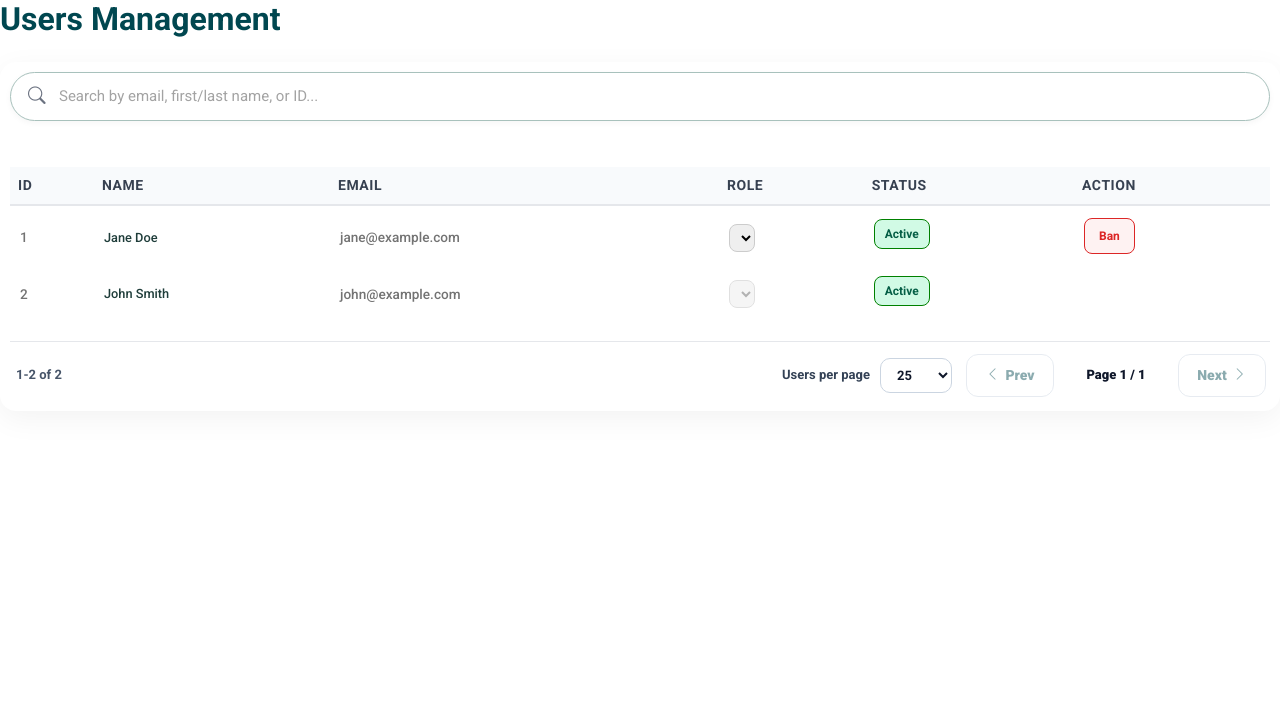
Test: Ban User (Admin) — AdminUsers.vue DOM › opens ban modal when Ban is clicked and confirm updates row to banned state
Click the button with class "btn-ban" at point(1109, 236), box top-left (1084, 218), bottom-right (1135, 254)
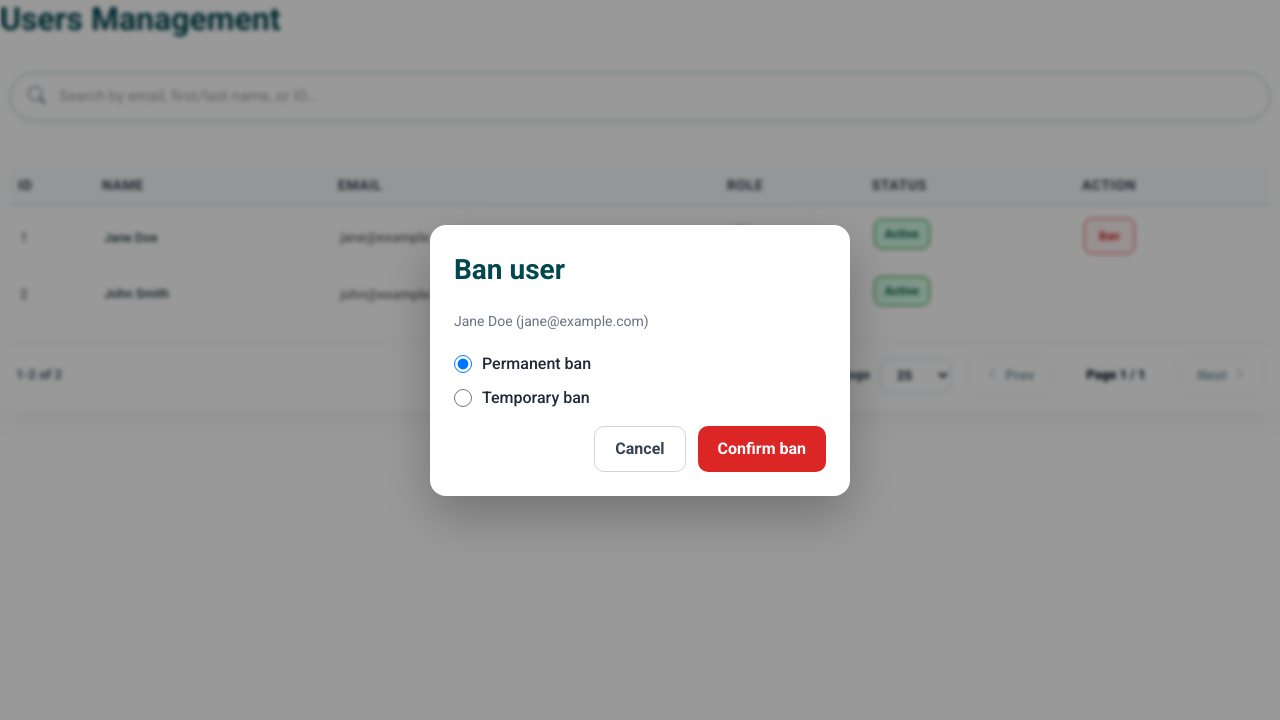
Expected: the element with class "modal-overlay" is shown
Expected: the text "Ban user" is shown, top-left (454, 252), bottom-right (565, 286)
Click the button with class "btn-modal-confirm" at point(762, 448), box top-left (698, 426), bottom-right (826, 472)
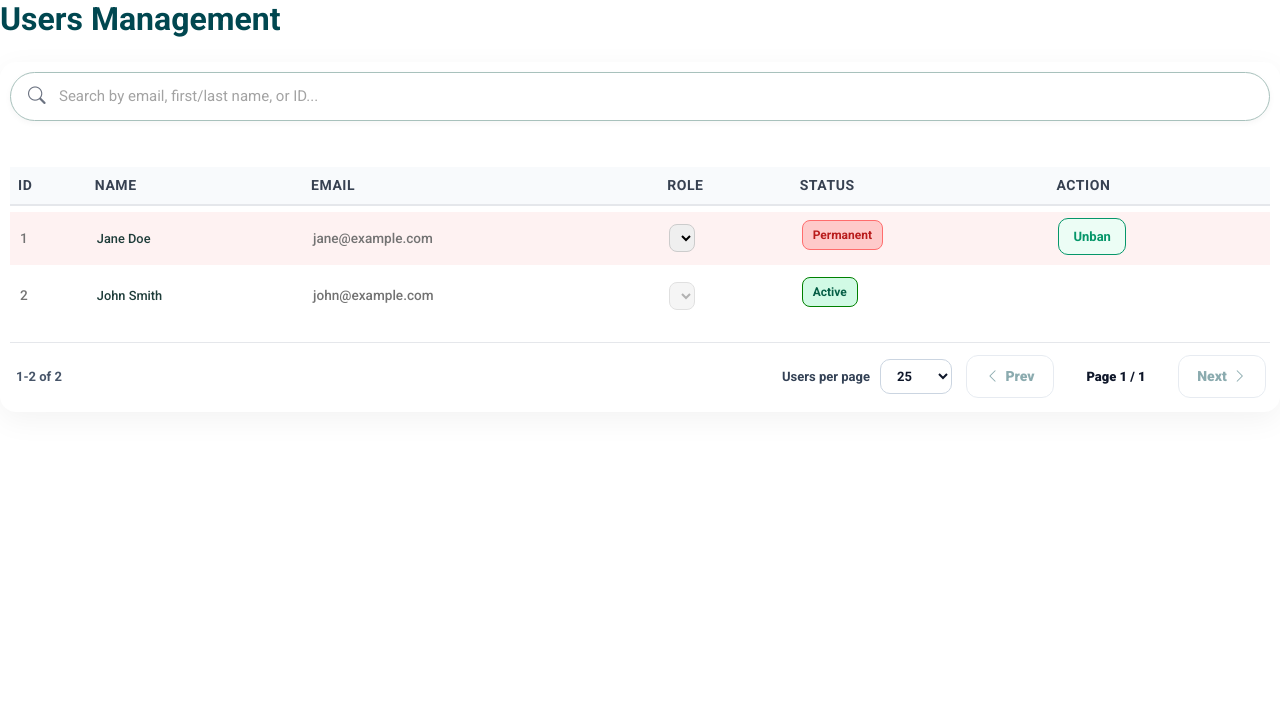
Expected: the button with class "btn-unban" is shown, top-left (1058, 218), bottom-right (1126, 255)
